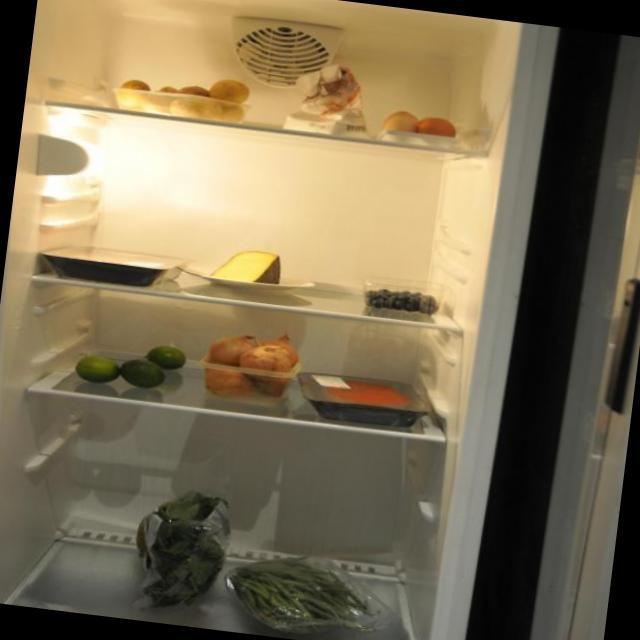Carne vacuno: (314, 369, 422, 427)
Huevos: (373, 106, 461, 152)
Queso: (209, 244, 283, 290)
